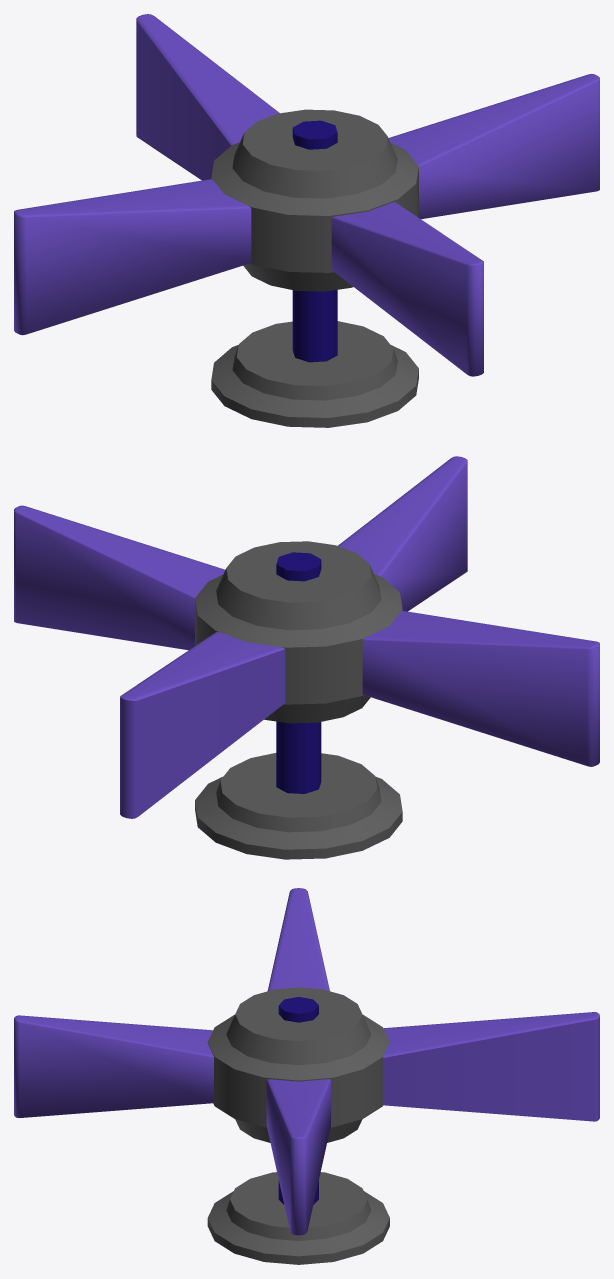
The model's file is Obstacle.fbx.
3 renders of one model, top to bottom at view 1: azimuth 30°, elevation 25°; view 2: azimuth 150°, elevation 25°; view 3: azimuth 270°, elevation 25°, orthographic. The views are drawn at different scales.
Parts seen in each view (by area): view 1: Head_04, Center, Head_02, Head_01, Base, Head_03, Pile; view 2: Head_04, Center, Head_02, Head_03, Base, Head_01, Pile; view 3: Head_03, Center, Head_01, Base, Head_02, Head_04, Pile.
Boxes of the visible parts, x1=… form: Head_04: x1=14, y1=179, x2=251, y2=335; Center: x1=211, y1=109, x2=418, y2=291; Head_02: x1=388, y1=74, x2=599, y2=219; Head_01: x1=331, y1=202, x2=483, y2=376; Base: x1=211, y1=321, x2=418, y2=427; Head_03: x1=136, y1=14, x2=279, y2=180; Pile: x1=292, y1=120, x2=337, y2=362; Head_04: x1=362, y1=610, x2=599, y2=766; Center: x1=195, y1=541, x2=402, y2=723; Head_02: x1=14, y1=505, x2=225, y2=650; Head_03: x1=120, y1=631, x2=285, y2=818; Base: x1=195, y1=753, x2=402, y2=859; Head_01: x1=338, y1=456, x2=467, y2=611; Pile: x1=276, y1=552, x2=321, y2=793; Head_03: x1=383, y1=1012, x2=599, y2=1121; Center: x1=207, y1=987, x2=389, y2=1142; Head_01: x1=14, y1=1015, x2=213, y2=1117; Base: x1=207, y1=1172, x2=389, y2=1264; Head_02: x1=266, y1=1079, x2=330, y2=1235; Head_04: x1=267, y1=888, x2=329, y2=991; Pile: x1=278, y1=997, x2=318, y2=1204.
Size of the model in its own units: 643 by 268 by 643.
